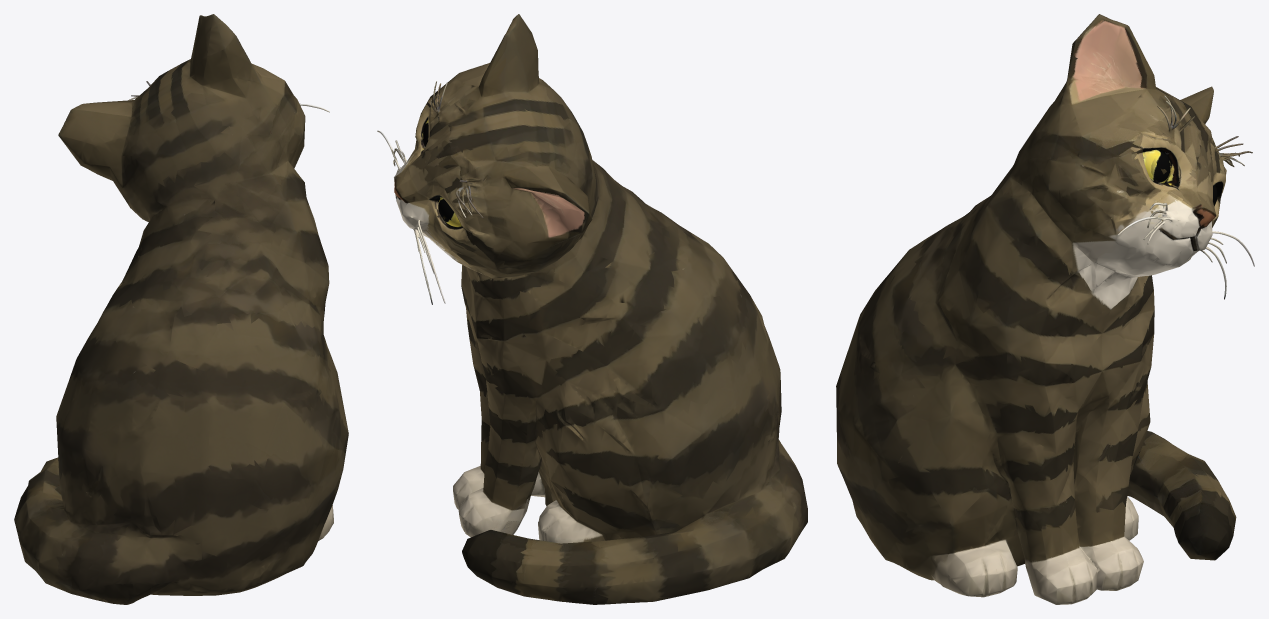
File: byte.glb
3 renders of one model, left to right at view 1: azimuth 30°, elevation 25°; view 2: azimuth 150°, elevation 25°; view 3: azimuth 270°, elevation 25°, orthographic. The views are drawn at different scales.
Visible parts, largest first — view 1: Meshy_AI_Curious_Tabby_0819134229_texture; view 2: Meshy_AI_Curious_Tabby_0819134229_texture; view 3: Meshy_AI_Curious_Tabby_0819134229_texture.
Boxes of the visible parts, <box> form: Meshy_AI_Curious_Tabby_0819134229_texture: <box>14,14,348,604</box>; Meshy_AI_Curious_Tabby_0819134229_texture: <box>377,14,807,604</box>; Meshy_AI_Curious_Tabby_0819134229_texture: <box>836,14,1254,604</box>.
Bounding box in the file's own units: 0.3348 × 0.4609 × 0.3145.
1 material, 1 textured.
